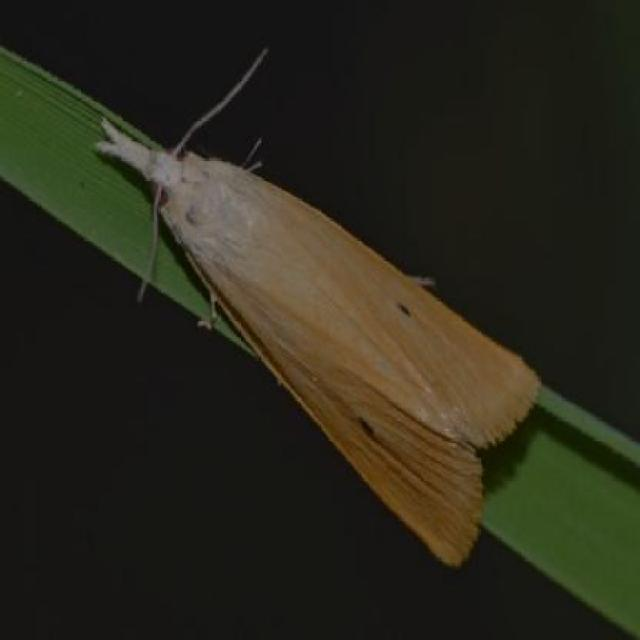stem-borer: (94, 44, 540, 570)
